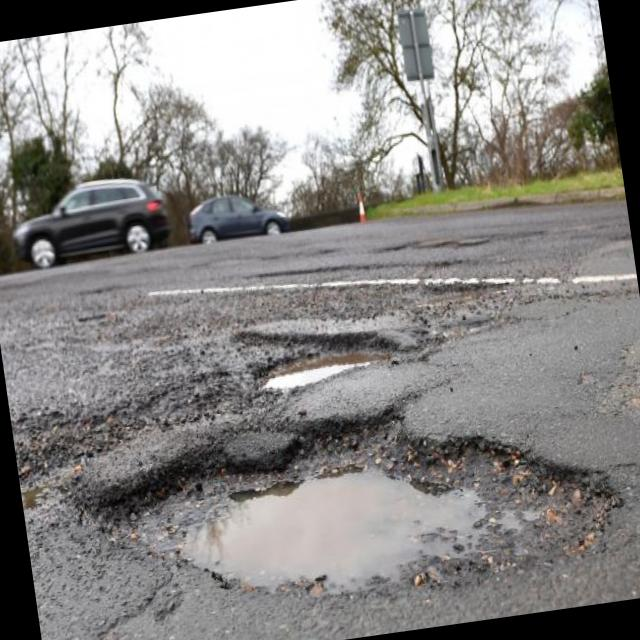Potholes: (54, 358, 631, 640), (228, 278, 432, 419)
